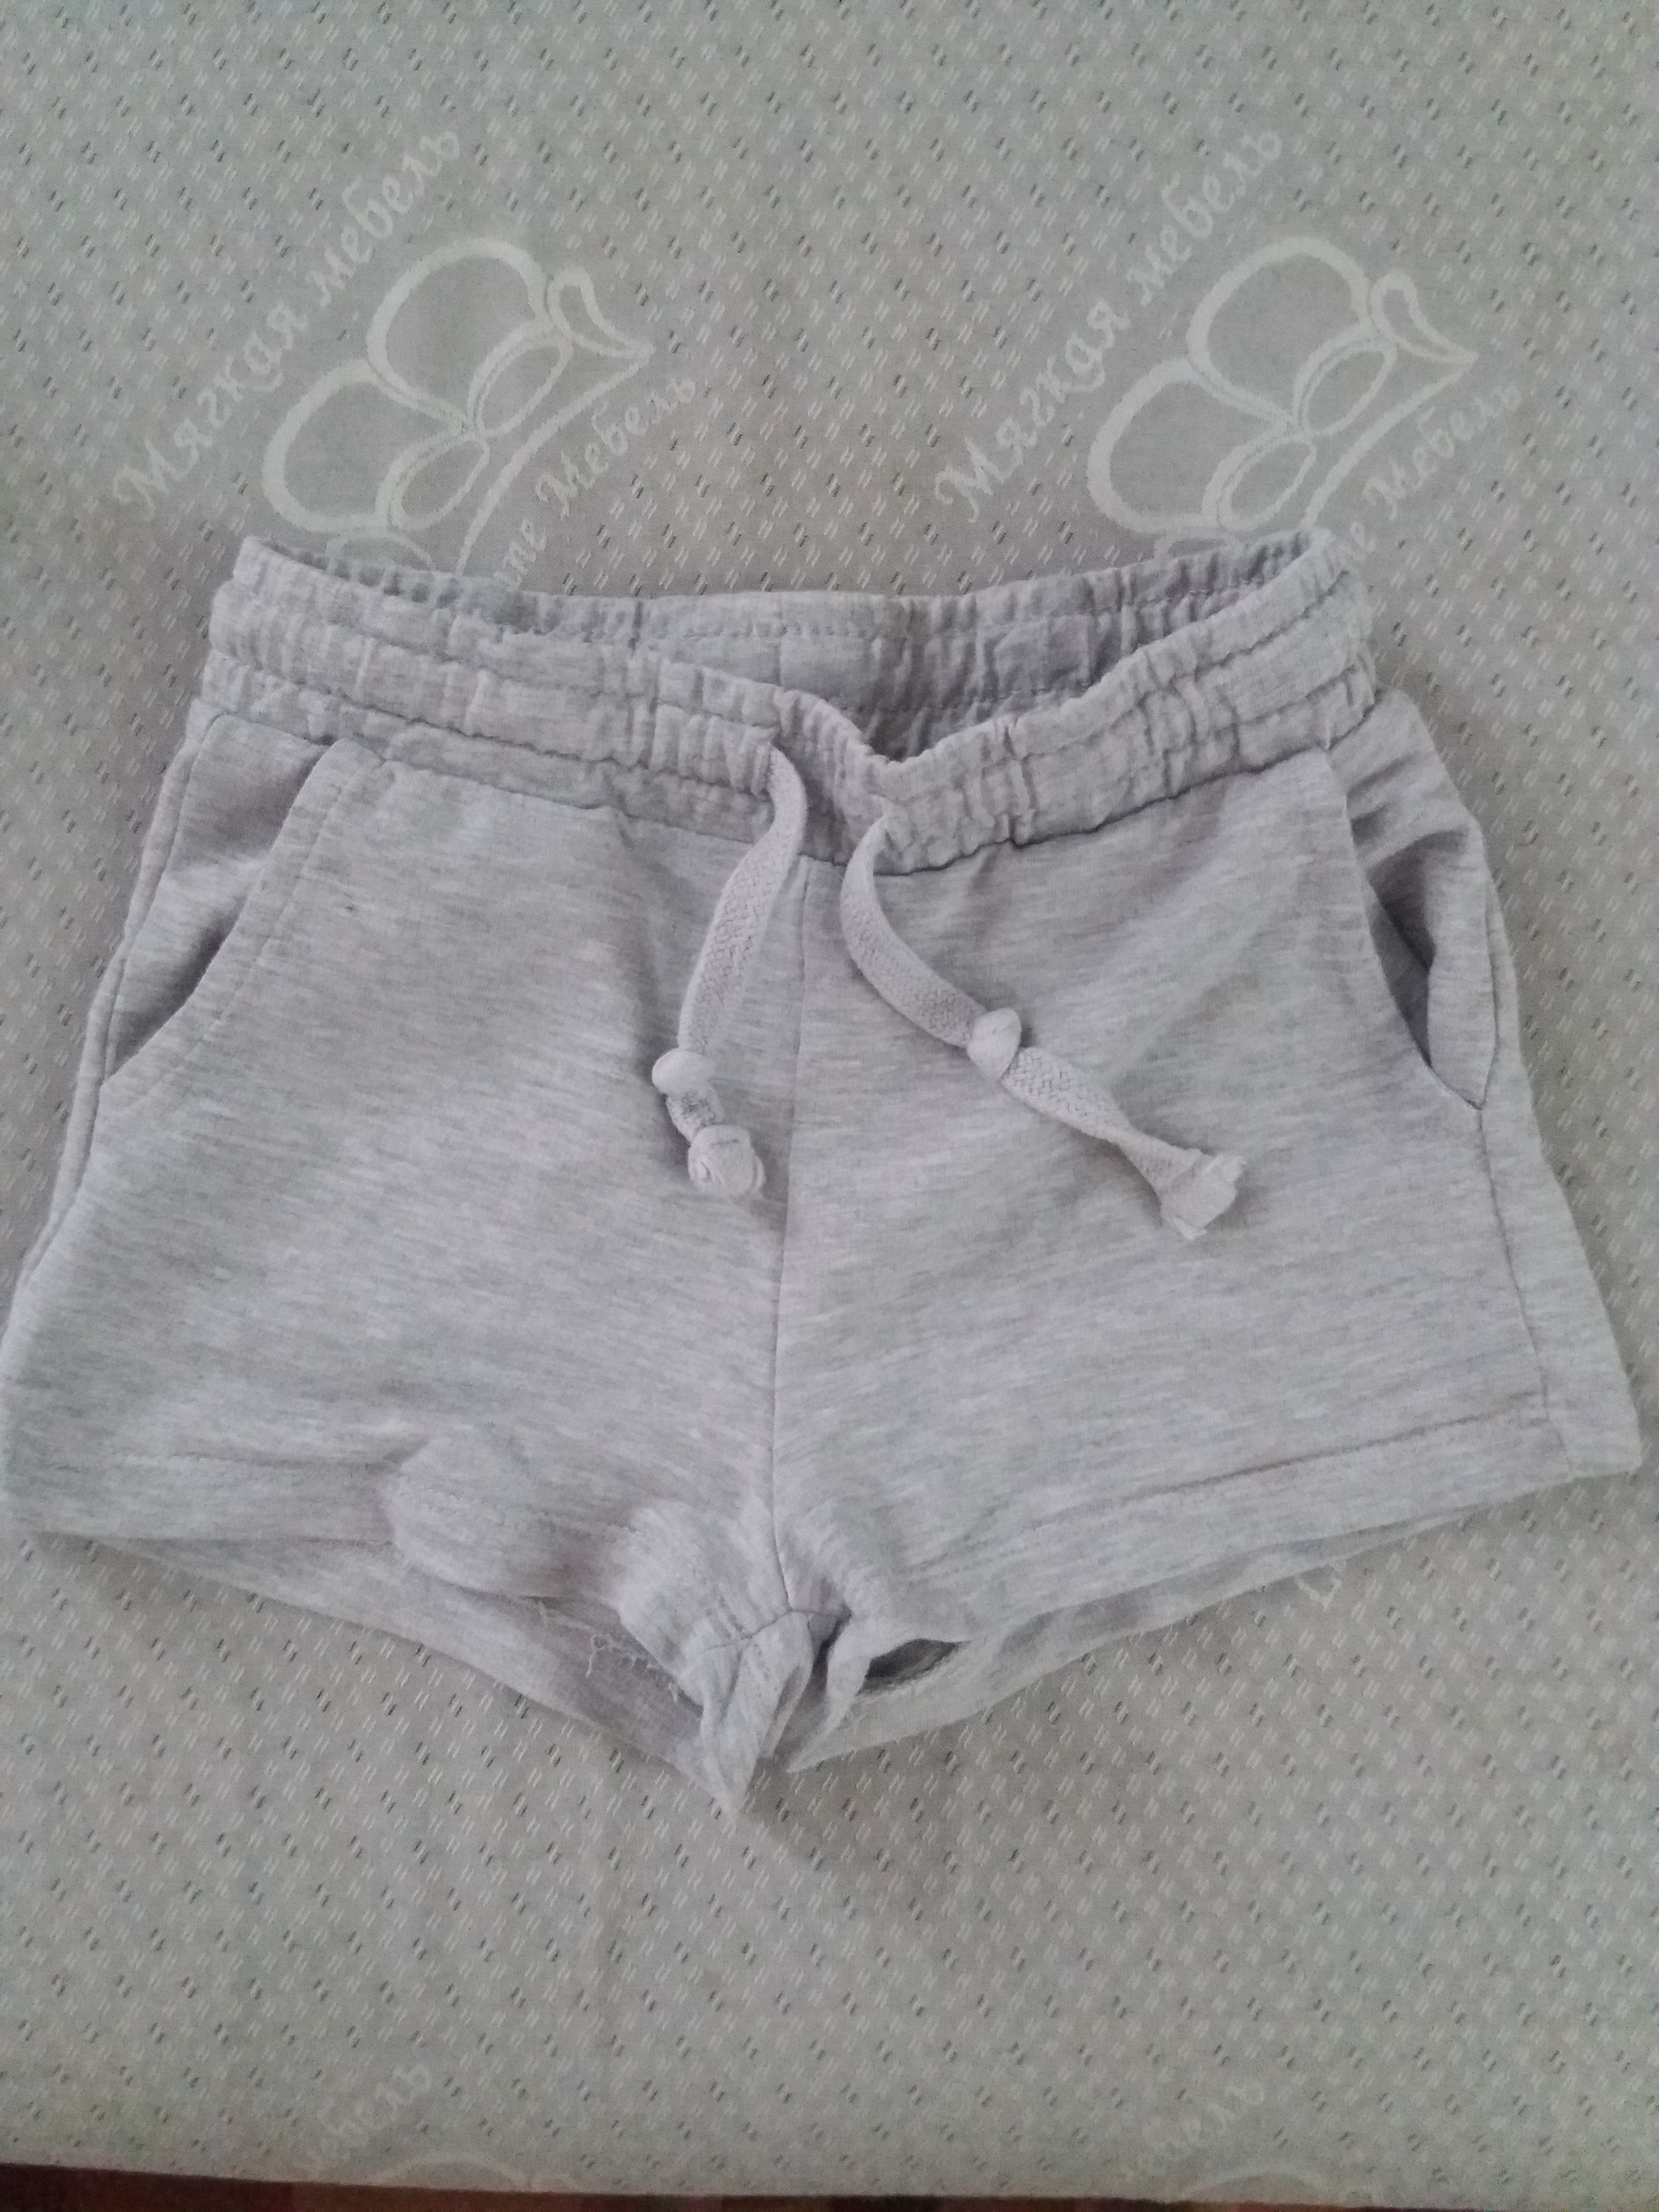clothes: (38, 509, 1659, 1810)
